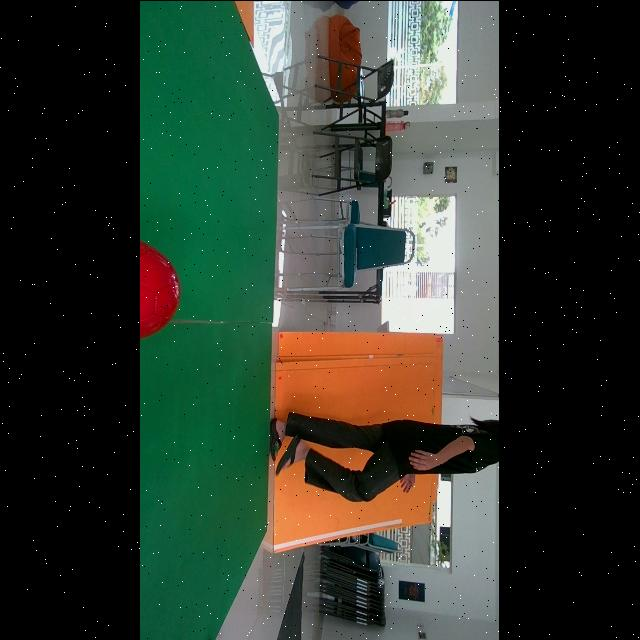R: (140, 240, 182, 337)
